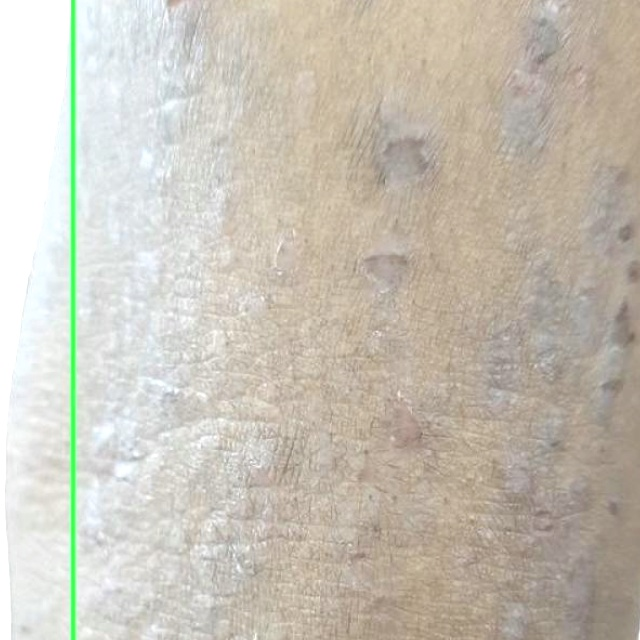Atopic Dermatitis: (0, 0, 73, 639)
